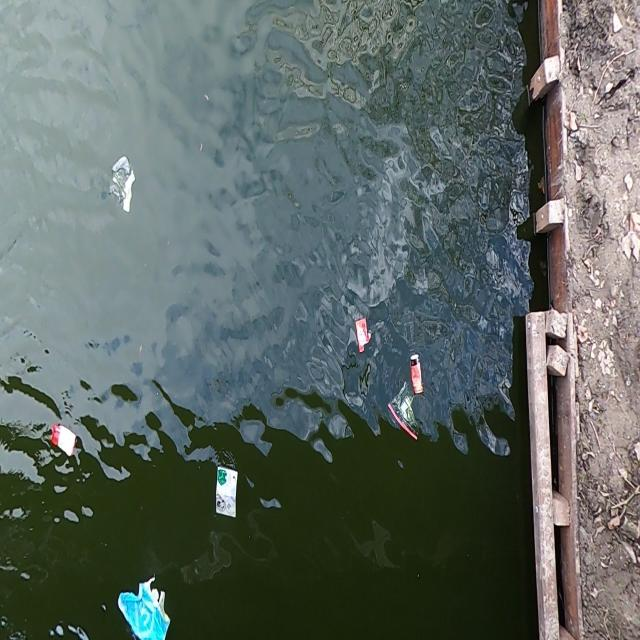Autre plastique: (212, 456, 242, 526)
Non plastique: (409, 349, 427, 399)
Sac plastique: (115, 570, 176, 640), (384, 386, 423, 448), (106, 154, 141, 214)
